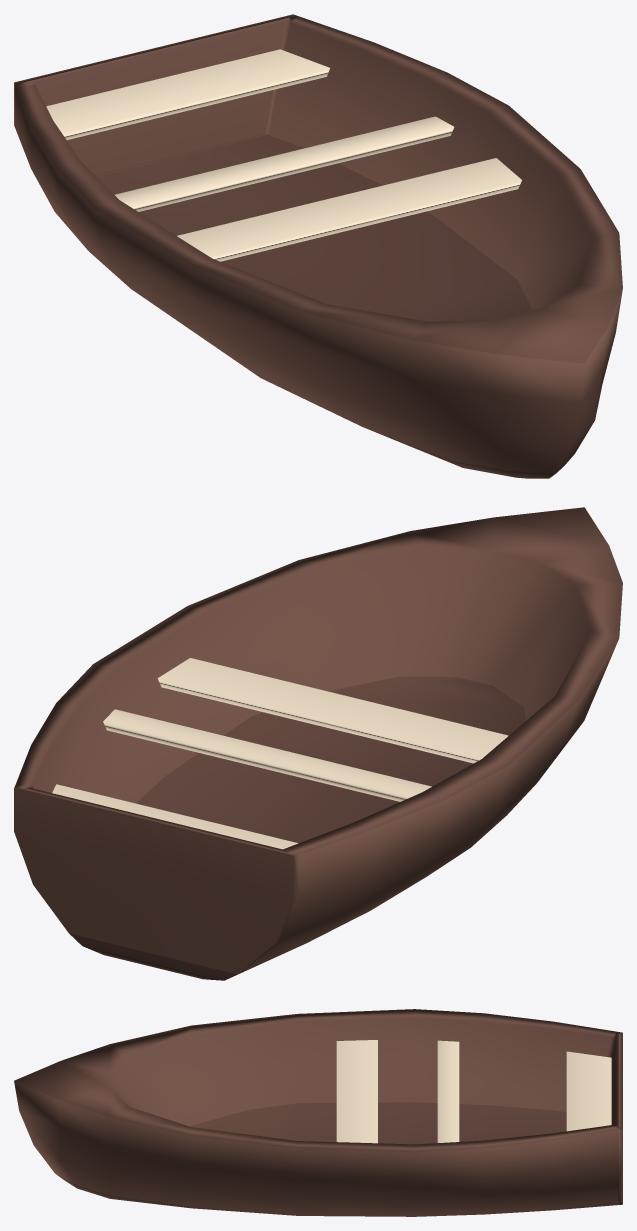
File: _ood_Boat.fbx
The picture shows the model from 3 angles, top to bottom: view 1: azimuth 30°, elevation 25°; view 2: azimuth 150°, elevation 25°; view 3: azimuth 270°, elevation 25°; orthographic projection. The views are drawn at different scales.
Parts seen in each view (by area): view 1: Wood_Boat; view 2: Wood_Boat; view 3: Wood_Boat.
Boxes of the visible parts, x1=… form: Wood_Boat: x1=14, y1=14, x2=622, y2=478; Wood_Boat: x1=14, y1=507, x2=622, y2=980; Wood_Boat: x1=14, y1=1009, x2=622, y2=1216.
Bounding box in the file's own units: 35.61 × 11.82 × 63.94.
